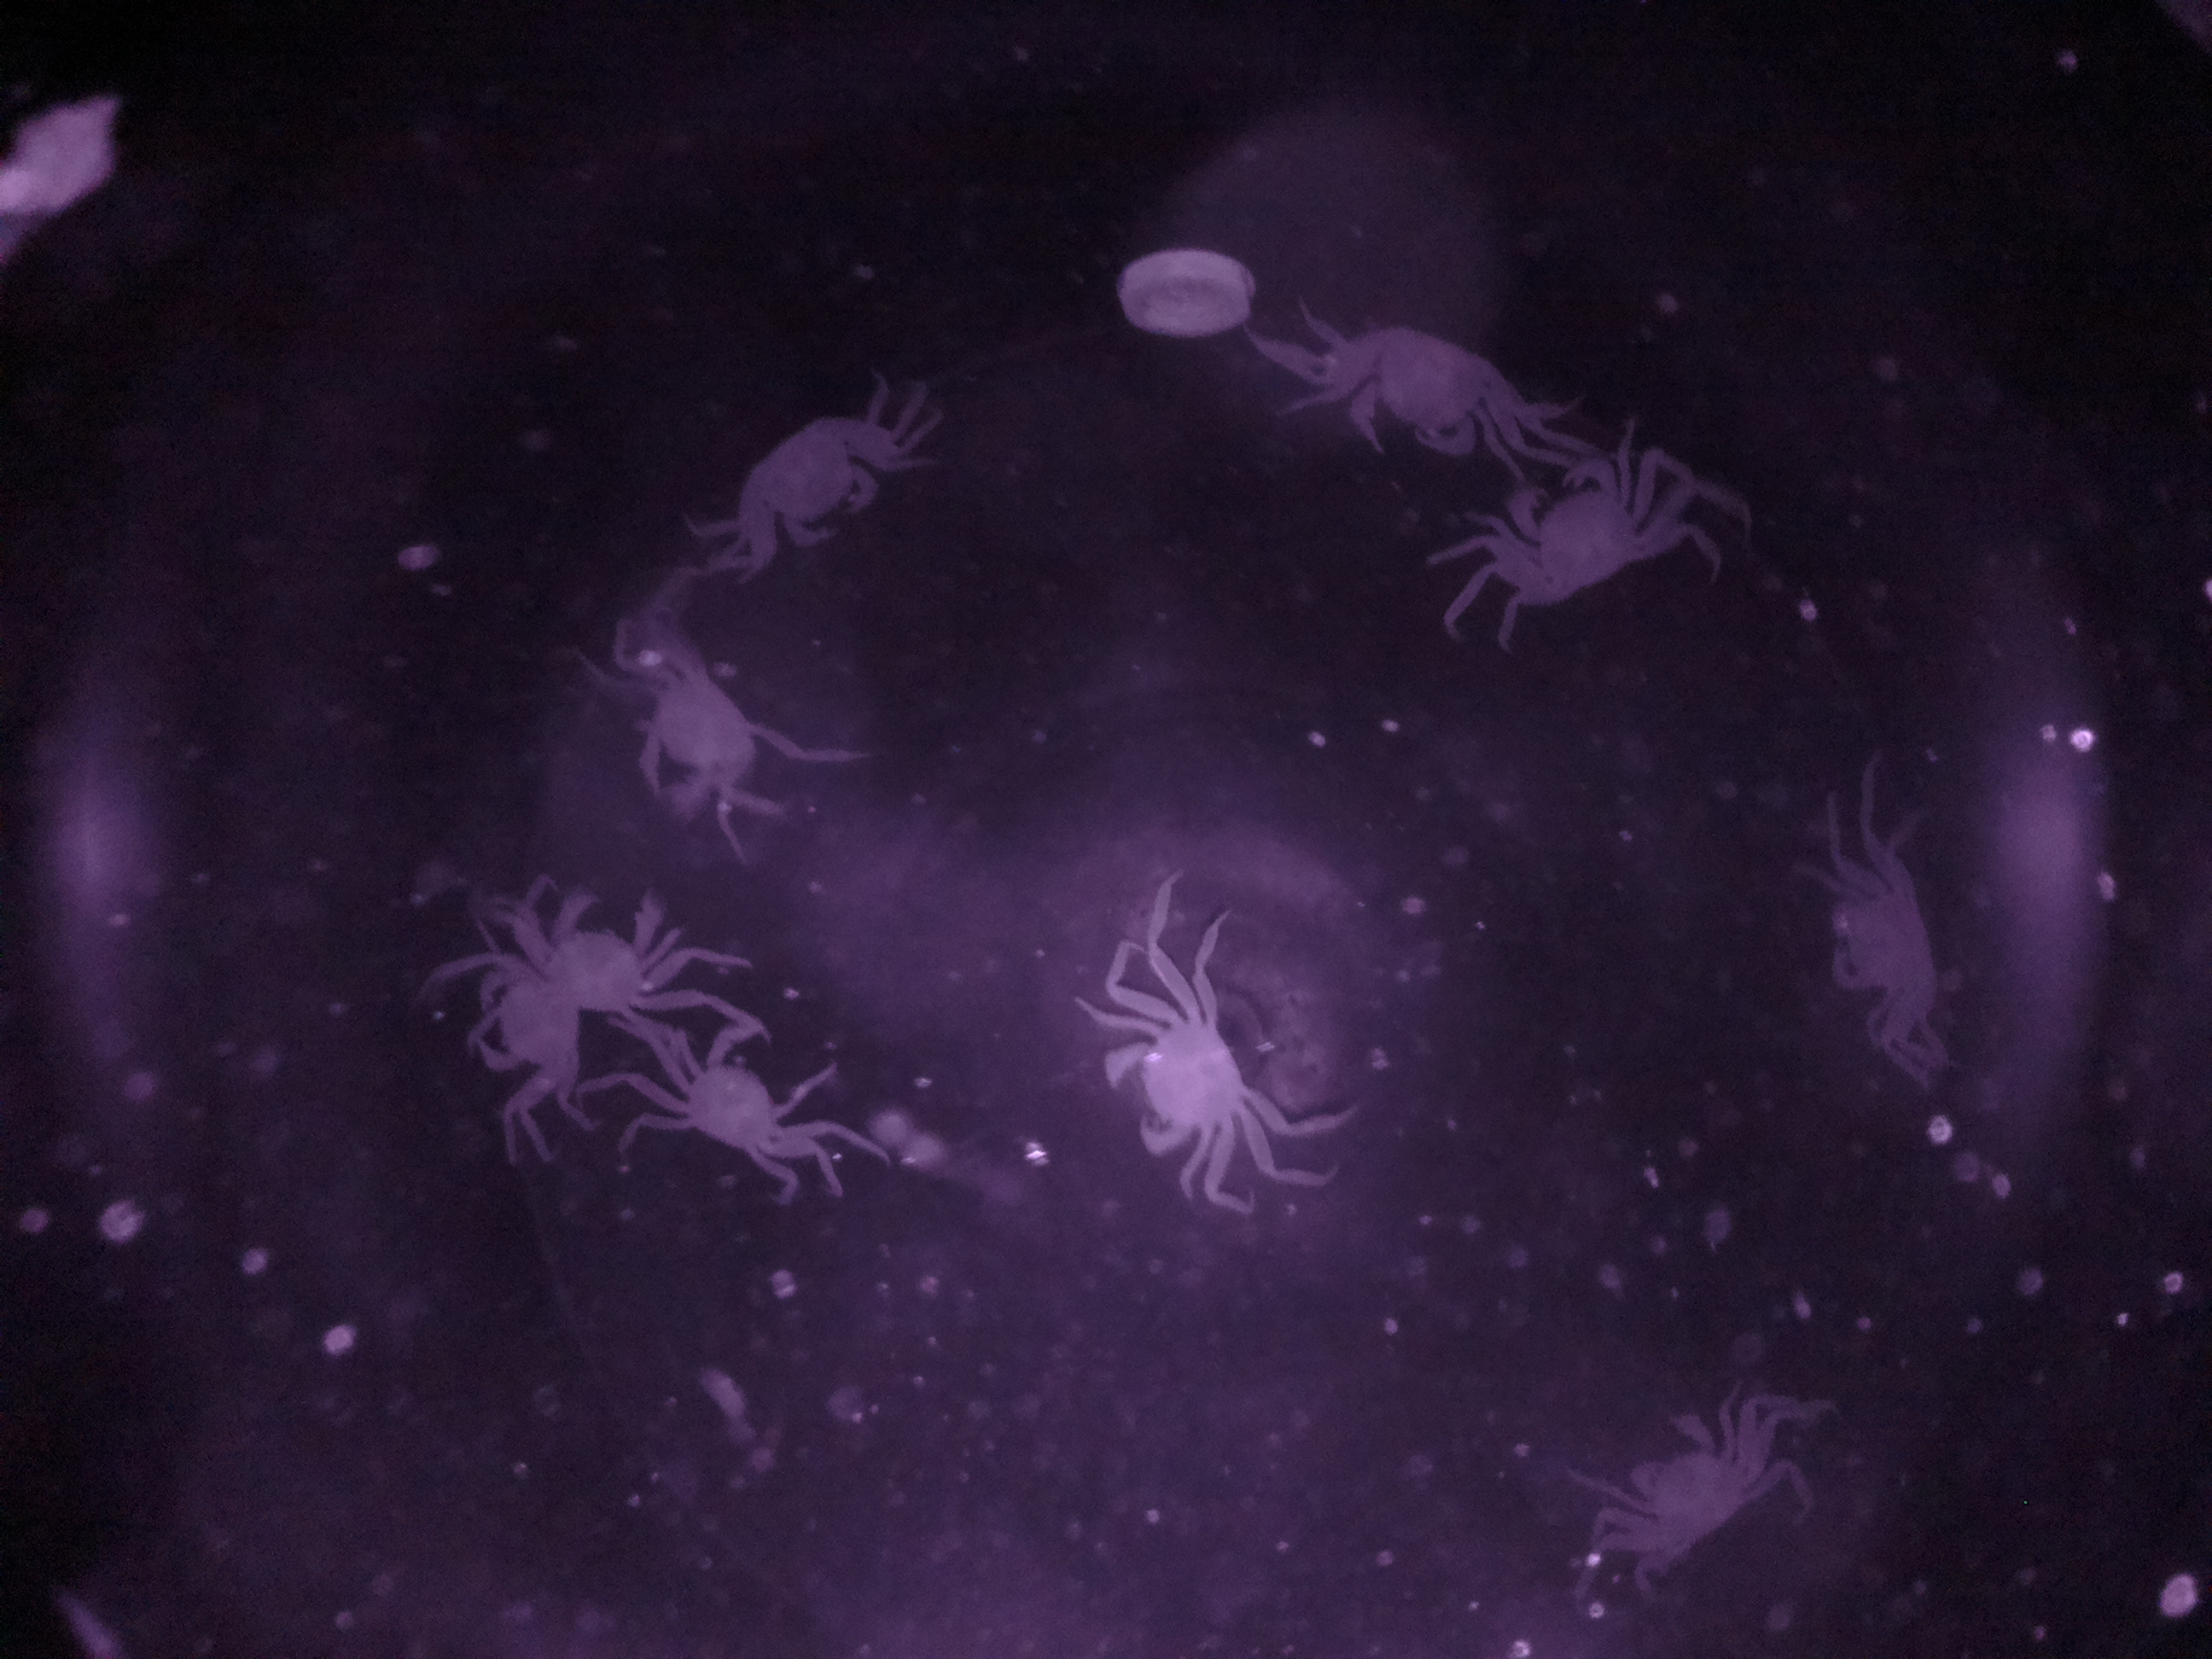Crab: (1082, 967, 1282, 1178), (1296, 310, 1538, 472), (662, 1000, 859, 1185), (1467, 441, 1670, 615), (721, 383, 897, 573), (1609, 1387, 1763, 1579)
